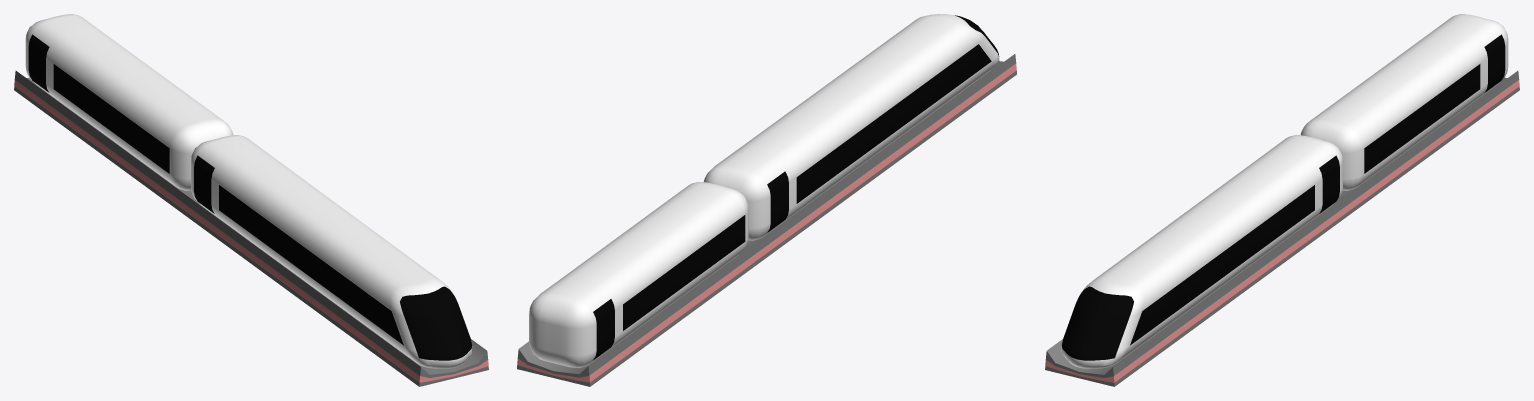
Rendered from metro.fbx.
3 renders of one model, left to right at view 1: azimuth 30°, elevation 25°; view 2: azimuth 150°, elevation 25°; view 3: azimuth 330°, elevation 25°, orthographic. The views are drawn at different scales.
Visible parts, largest first — view 1: polySurface24, polySurface26, polySurface27; view 2: polySurface24, polySurface26, polySurface27; view 3: polySurface24, polySurface26, polySurface27.
Part boxes in pixels (<box>): polySurface24: <box>191,135,472,368</box>; polySurface26: <box>25,14,233,190</box>; polySurface27: <box>14,70,488,386</box>; polySurface24: <box>703,14,999,240</box>; polySurface26: <box>529,182,748,367</box>; polySurface27: <box>517,54,1016,386</box>; polySurface24: <box>1061,135,1342,368</box>; polySurface26: <box>1300,14,1508,190</box>; polySurface27: <box>1045,70,1519,386</box>.
Size of the model in its own units: 10.19 by 10 by 104.
